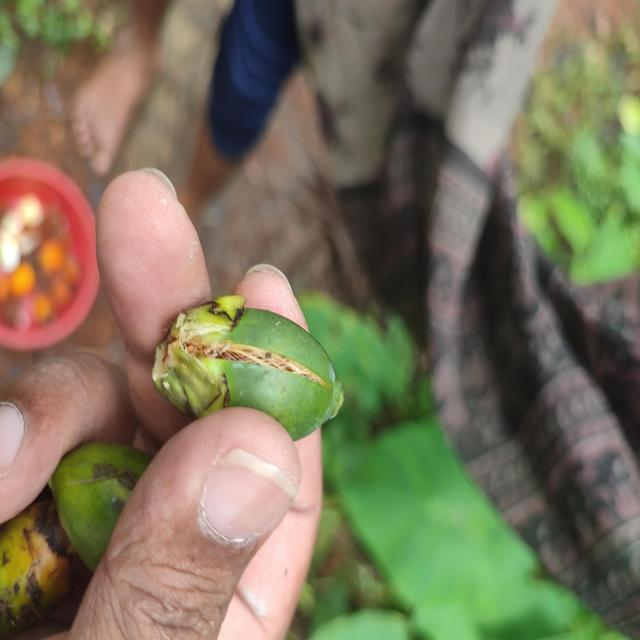damaged: (153, 296, 344, 440)
